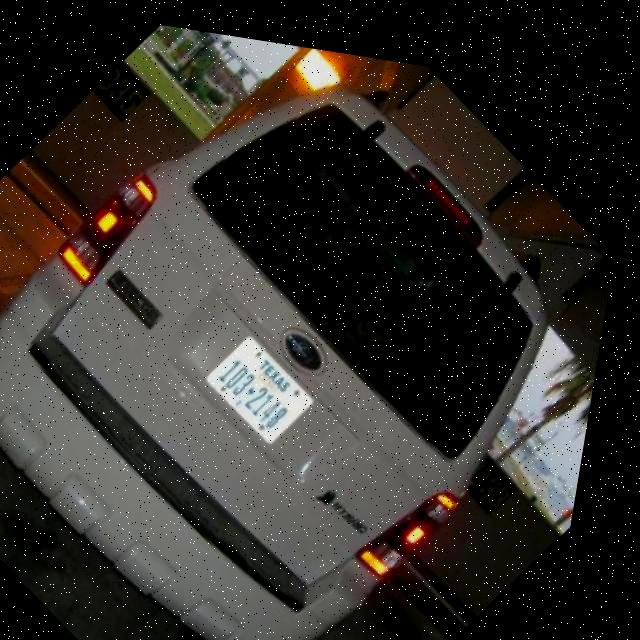license_plate: (206, 320, 334, 441)
